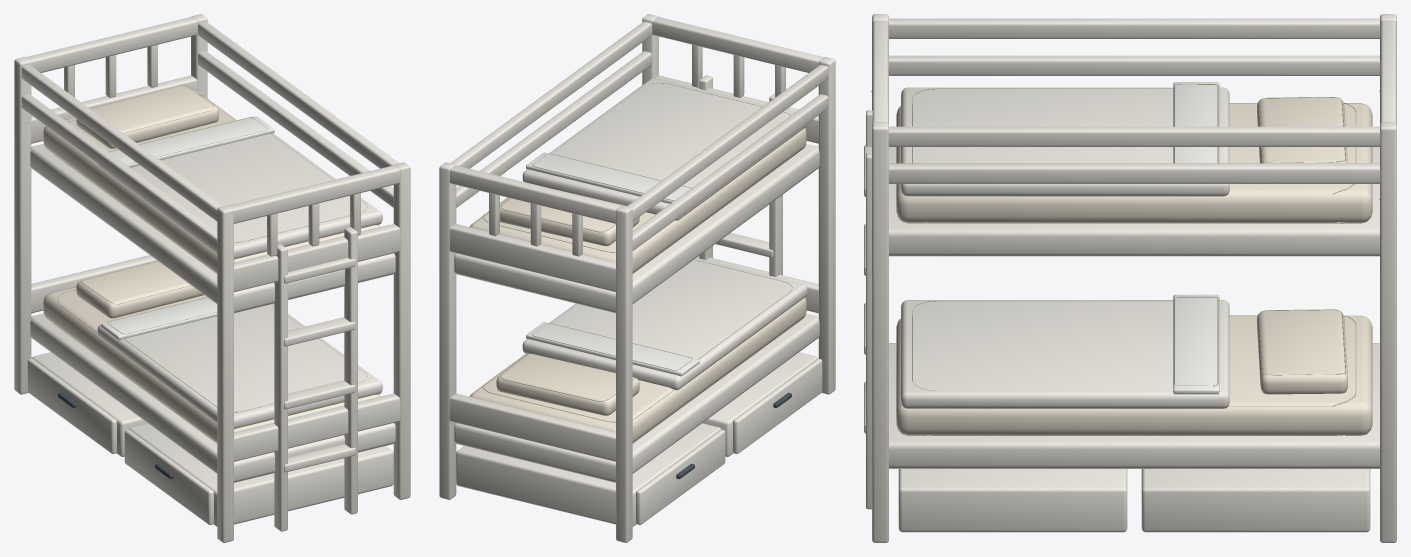
File: storage-bunk.glb
The picture shows the model from 3 angles, left to right: view 1: azimuth 30°, elevation 25°; view 2: azimuth 150°, elevation 25°; view 3: azimuth 270°, elevation 25°; orthographic projection. The views are drawn at different scales.
Visible parts, largest first — view 1: storage-bunk; view 2: storage-bunk; view 3: storage-bunk.
Boxes of the visible parts, <box> form: storage-bunk: <box>14,14,410,542</box>; storage-bunk: <box>439,14,835,542</box>; storage-bunk: <box>864,14,1396,542</box>.
Bounding box in the file's own units: 1.13 × 1.86 × 2.16.
